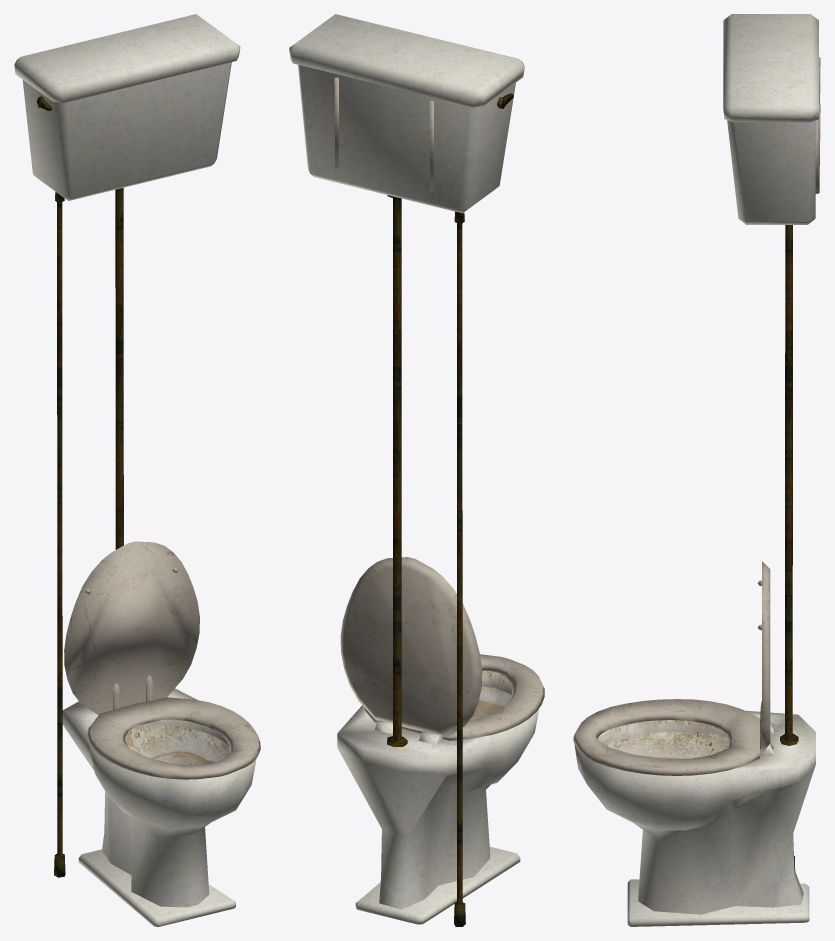
Rendered from toilet_high_tank.obj.
The picture shows the model from 3 angles, left to right: view 1: azimuth 30°, elevation 25°; view 2: azimuth 150°, elevation 25°; view 3: azimuth 270°, elevation 25°; orthographic projection. The views are drawn at different scales.
Visible parts, largest first — view 1: Model001_4_toilet_1_0_0; view 2: Model001_4_toilet_1_0_0; view 3: Model001_4_toilet_1_0_0.
Boxes of the visible parts, x1,y1,x2,y2 form: Model001_4_toilet_1_0_0: [14, 14, 260, 926]; Model001_4_toilet_1_0_0: [289, 14, 544, 926]; Model001_4_toilet_1_0_0: [573, 14, 820, 926].
Bounding box in the file's own units: 0.5741 × 2.39 × 0.6304.
